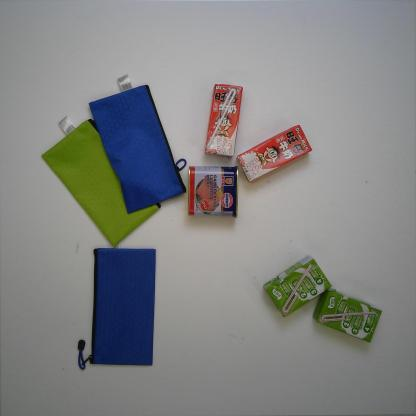Canned Food: (186, 163, 240, 221)
Milk: (234, 124, 313, 186), (263, 252, 332, 318), (312, 286, 384, 344), (202, 81, 243, 159)
Stationery: (40, 111, 164, 248), (86, 73, 188, 216), (75, 246, 154, 372)
